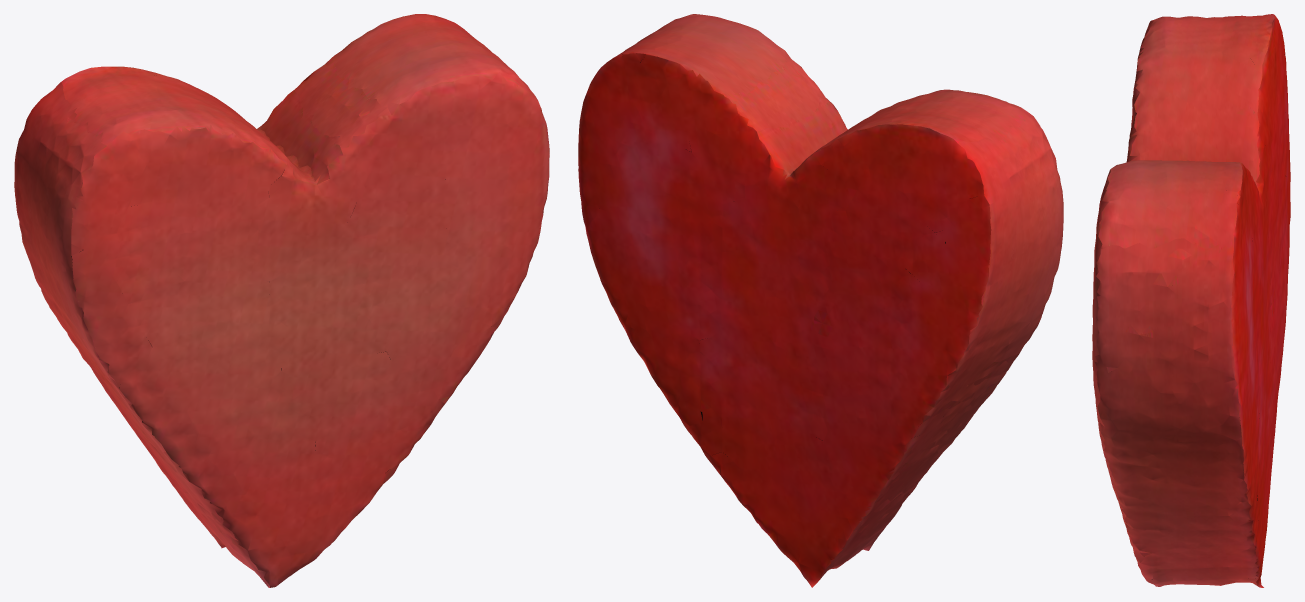
The model's file is heart.glb.
3 renders of one model, left to right at view 1: azimuth 30°, elevation 25°; view 2: azimuth 150°, elevation 25°; view 3: azimuth 270°, elevation 25°, orthographic. The views are drawn at different scales.
Visible parts, largest first — view 1: world; view 2: world; view 3: world.
Boxes of the visible parts, left/top/right/bottom form: world: left=14, top=14, right=549, bottom=587; world: left=578, top=14, right=1063, bottom=587; world: left=1092, top=14, right=1290, bottom=587.
Size of the model in its own units: 0.8713 by 0.9078 by 0.323.
1 material, 1 textured.
